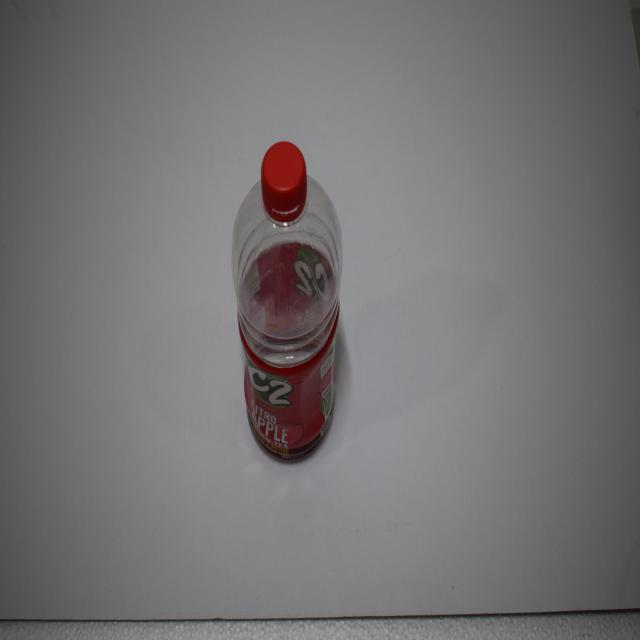empty: (232, 142, 342, 460)
